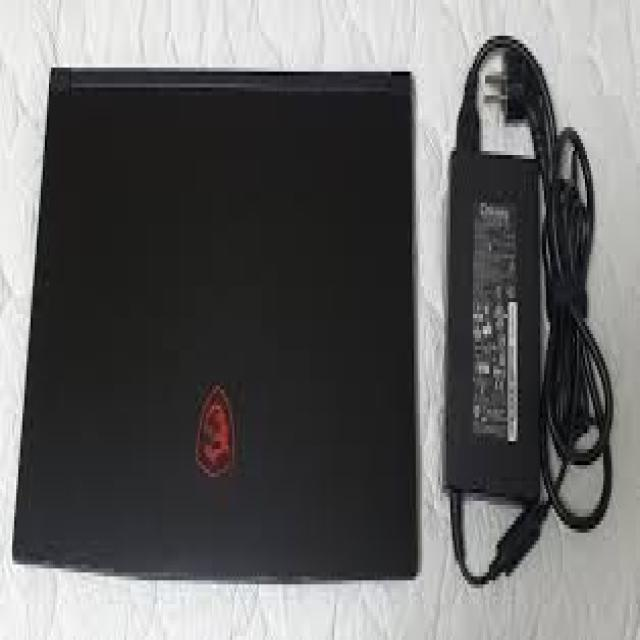laptop: (10, 64, 420, 580)
